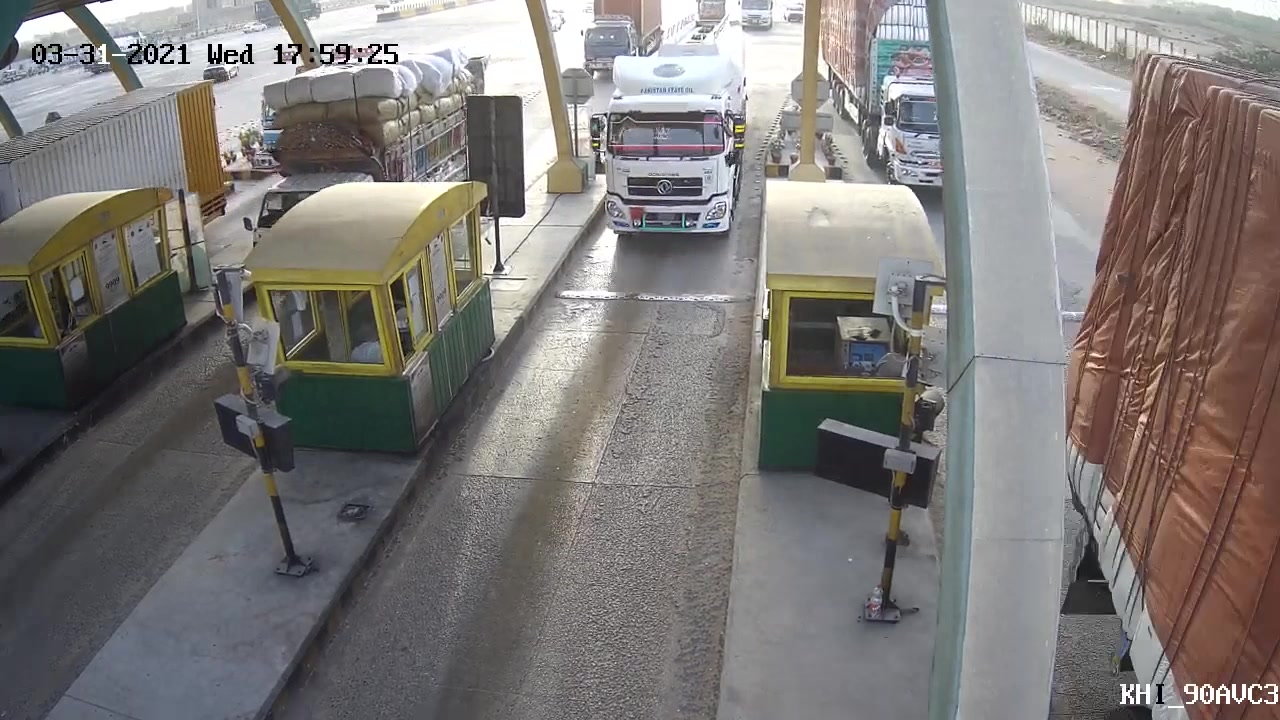F6: (583, 13, 759, 245)
